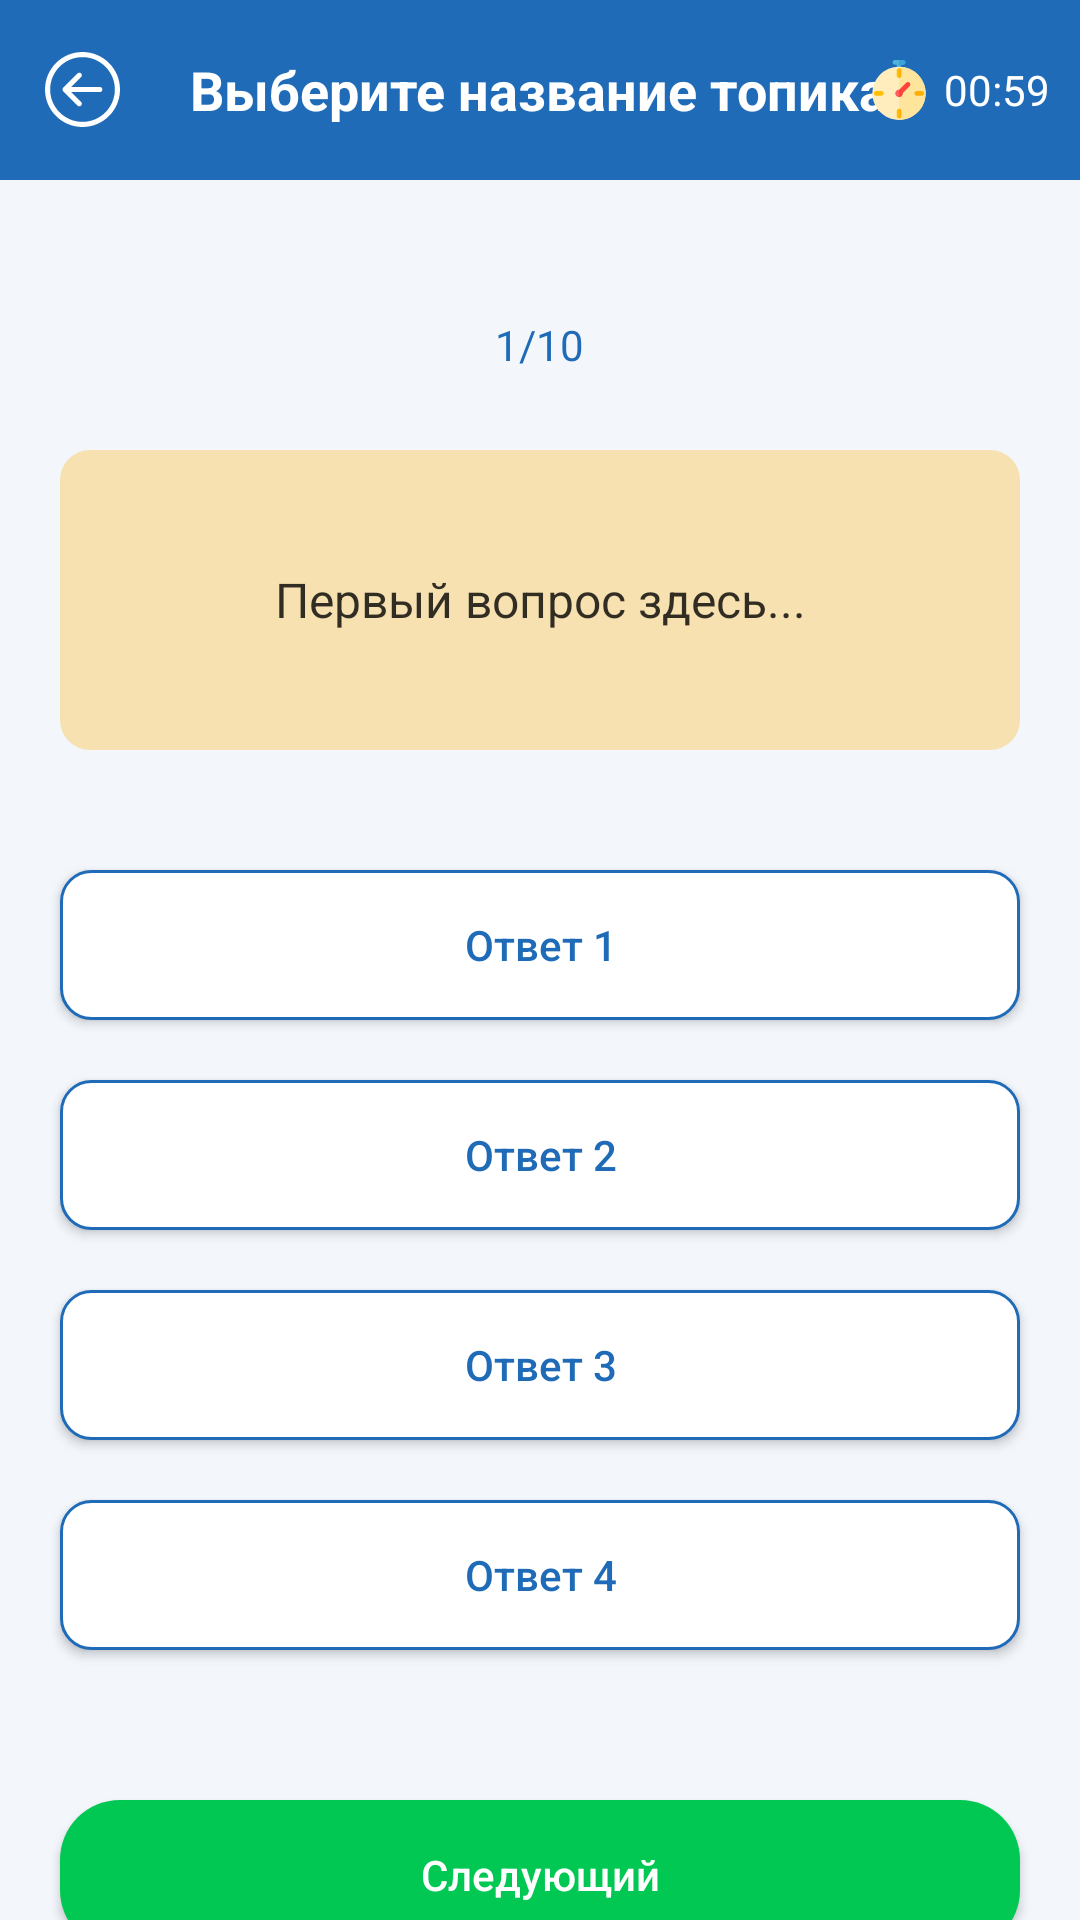

Named icons in this screenshot (1080 x 1920) and their bounding boxes, [left=x1, top=y1, right=x2, bottom=y2]:
back: [left=45, top=52, right=120, bottom=127]
timer: [left=869, top=60, right=926, bottom=120]
